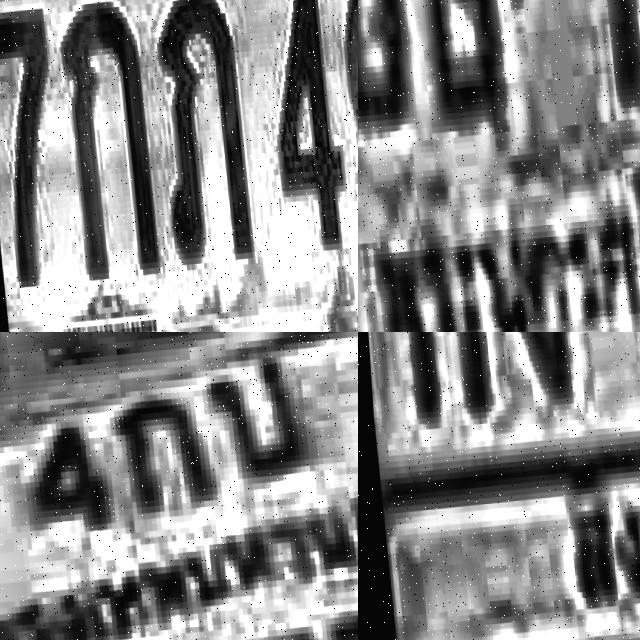license-plate: (0, 0, 358, 332), (0, 332, 358, 640), (358, 0, 640, 332), (358, 332, 640, 640)
